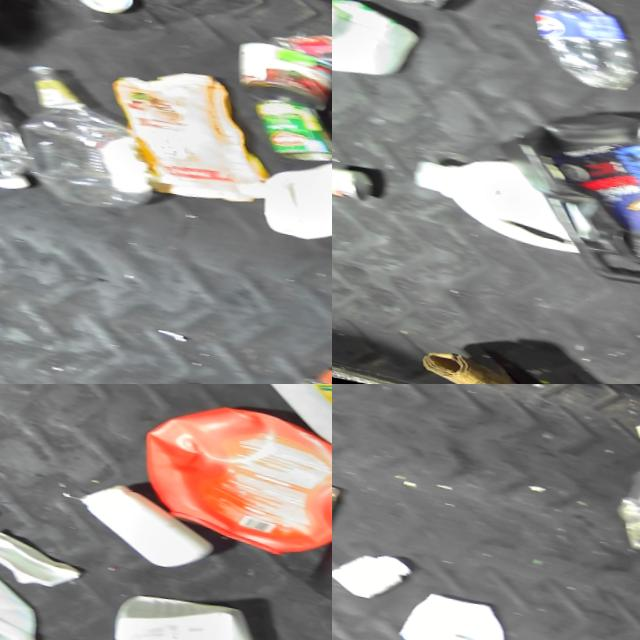can: (227, 36, 332, 108), (242, 86, 332, 161), (265, 19, 332, 70), (332, 162, 370, 202)
milk_jug: (398, 140, 590, 253), (88, 580, 267, 640), (231, 384, 332, 488), (332, 0, 421, 86), (384, 581, 510, 640)
non_white_jug: (120, 385, 332, 566), (490, 90, 640, 301), (286, 471, 332, 631)
plastic_bottle: (10, 61, 164, 216), (516, 0, 640, 92), (0, 56, 40, 190)
